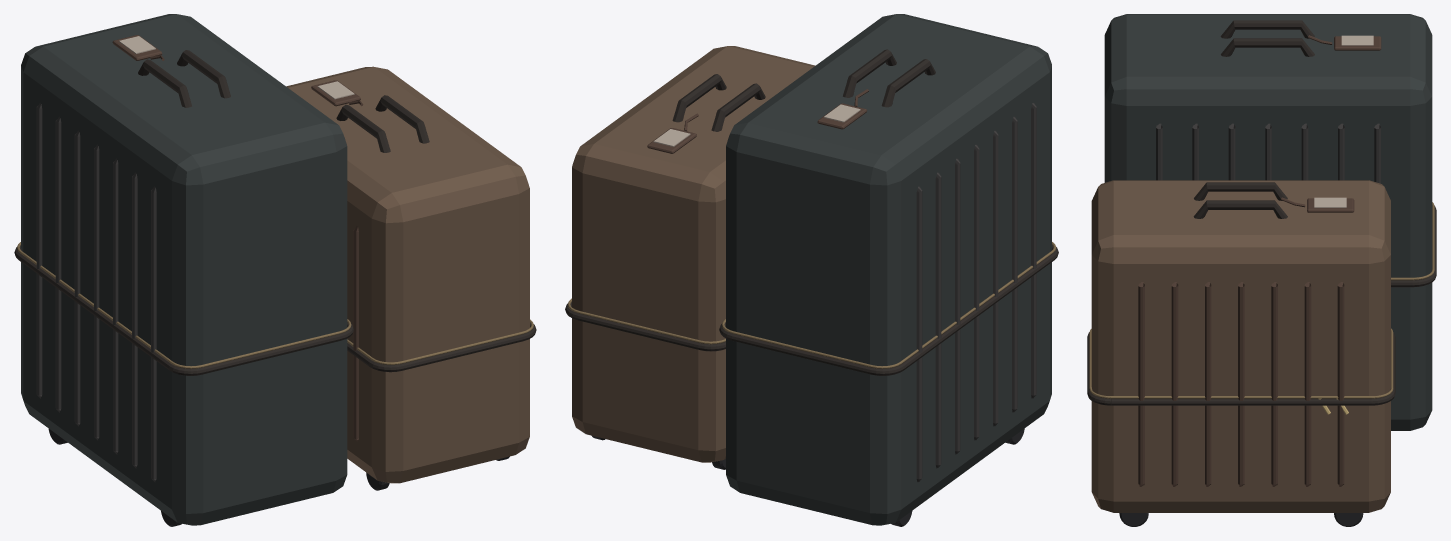
File: bags.glb
3 renders of one model, left to right at view 1: azimuth 30°, elevation 25°; view 2: azimuth 150°, elevation 25°; view 3: azimuth 270°, elevation 25°, orthographic. The views are drawn at different scales.
Visible parts, largest first — view 1: bags; view 2: bags; view 3: bags.
Part boxes in pixels (x1,y1,x2,y2): bags: [14, 14, 536, 526]; bags: [565, 14, 1058, 526]; bags: [1087, 14, 1436, 526].
Bounding box in the file's own units: 0.7006 × 0.7456 × 0.6191.
